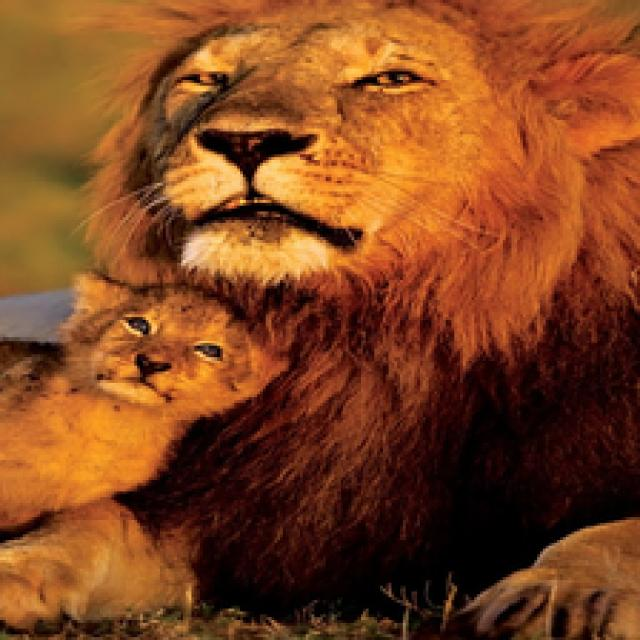lion: (121, 11, 640, 632), (0, 270, 275, 500)
